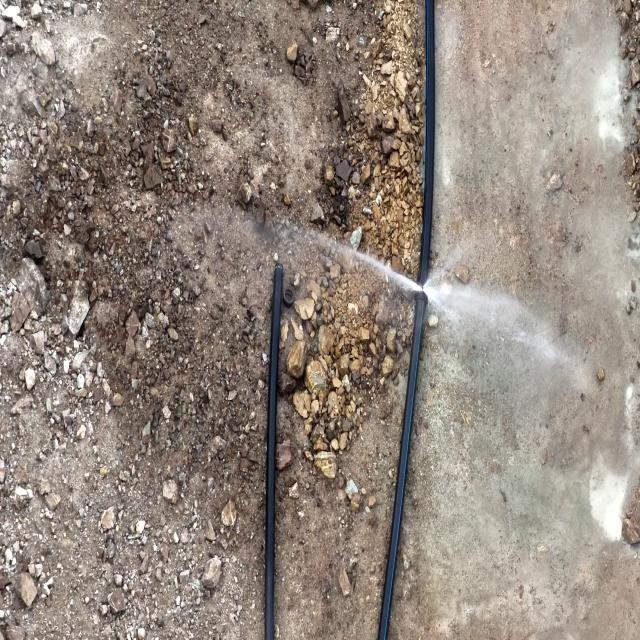leak: (283, 214, 551, 346)
